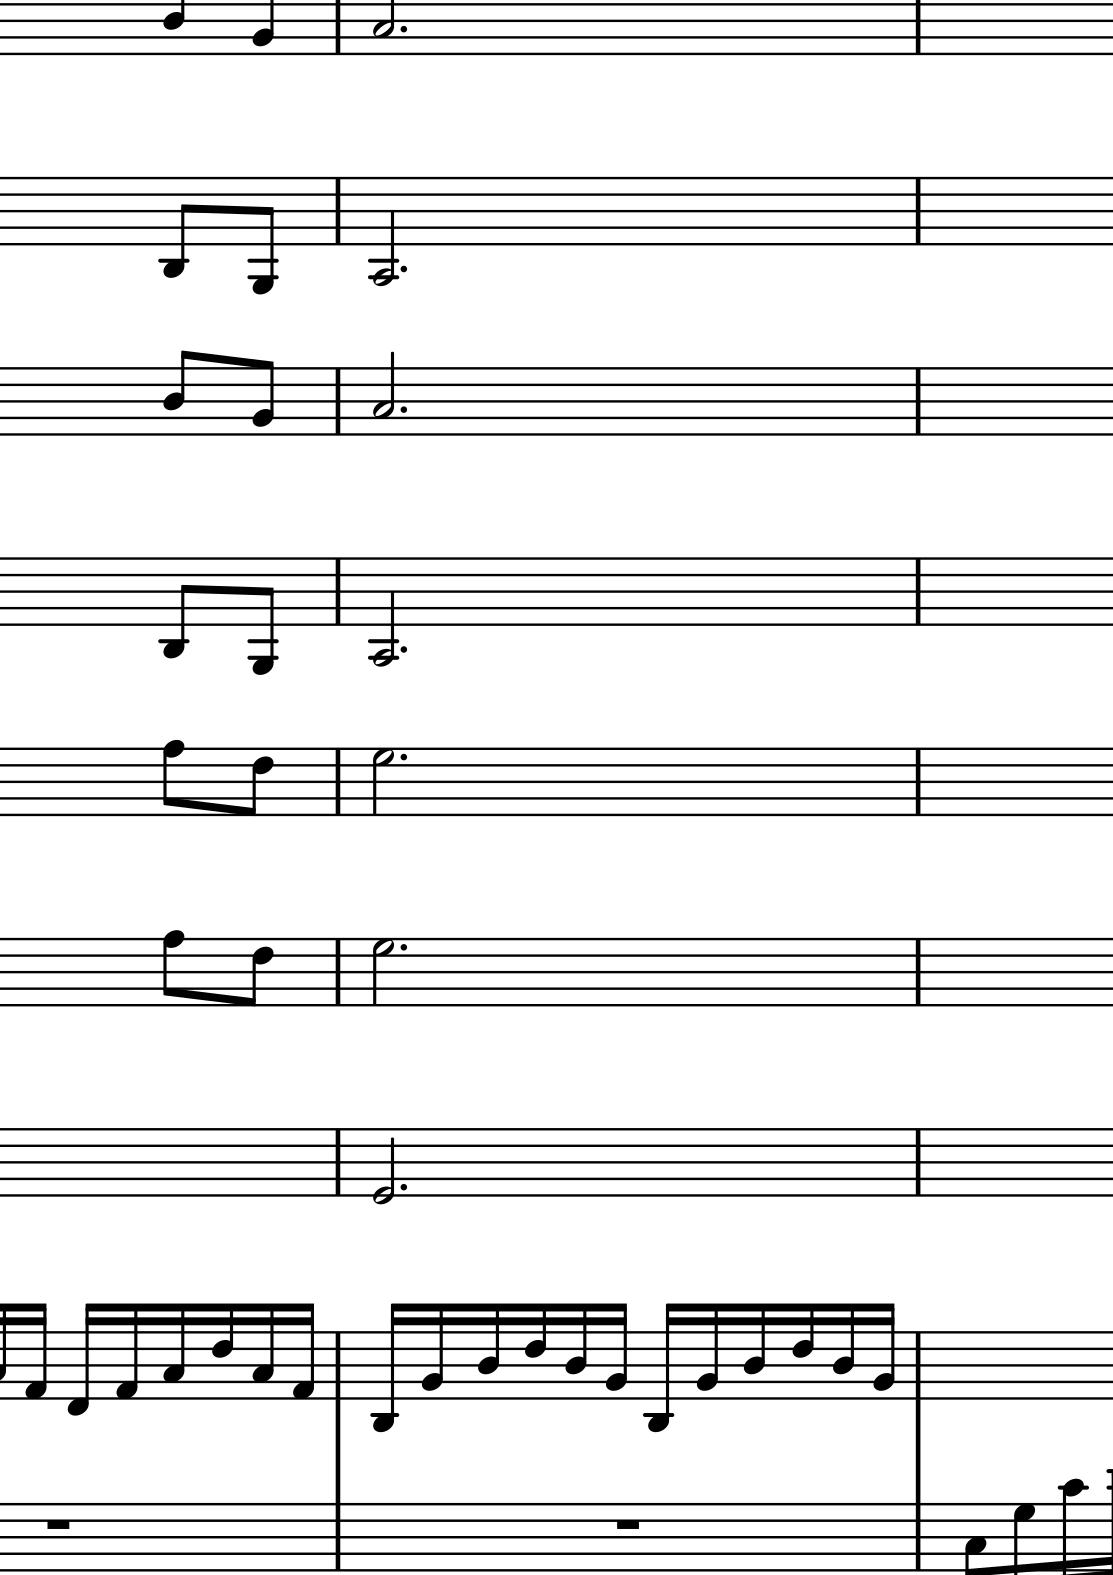16_-1: (65, 1303, 98, 1416)
16_-3: (369, 1302, 410, 1432), (644, 1302, 681, 1432)
16_1: (24, 1302, 49, 1403), (114, 1302, 139, 1403), (291, 1300, 316, 1400)
16_2: (694, 1300, 722, 1403), (419, 1300, 446, 1400), (603, 1300, 630, 1400), (872, 1302, 897, 1402)
16_3: (161, 1302, 187, 1400), (251, 1300, 275, 1400)
16_4: (831, 1300, 858, 1402), (563, 1300, 589, 1400), (741, 1300, 767, 1400), (475, 1302, 501, 1400)
16_6: (789, 1300, 815, 1402), (208, 1300, 235, 1400), (522, 1302, 548, 1402)
2_-4: (369, 175, 397, 289), (370, 556, 397, 669)
2_0: (369, 1126, 397, 1207)
2_3: (371, 350, 397, 438)
2_7: (371, 937, 397, 1008), (372, 747, 397, 818)
8_-3: (158, 556, 196, 661), (161, 177, 192, 279)
8_-5: (249, 554, 277, 676), (251, 175, 276, 295)
8_2: (251, 358, 275, 440)
8_4: (161, 349, 194, 435)
8_6: (241, 936, 275, 1009), (243, 743, 273, 818)
8_8: (161, 930, 185, 1010), (161, 739, 185, 818)
Rests1: (613, 1515, 646, 1536), (43, 1517, 77, 1535)
Single_barline: (906, 1503, 931, 1571), (905, 177, 929, 246), (906, 558, 930, 626), (326, 1128, 351, 1196), (326, 939, 351, 1005), (326, 1332, 349, 1400), (326, 1504, 349, 1573), (906, 749, 929, 816), (906, 1332, 929, 1399), (906, 939, 929, 1005), (907, 368, 929, 436), (326, 368, 348, 435), (907, 1129, 929, 1196), (328, 558, 348, 626), (328, 177, 348, 244), (329, 749, 349, 816)
dot: (396, 750, 410, 766), (397, 940, 410, 956), (396, 403, 410, 415), (397, 643, 410, 656), (397, 1181, 410, 1194), (396, 23, 410, 35), (397, 262, 410, 275)
